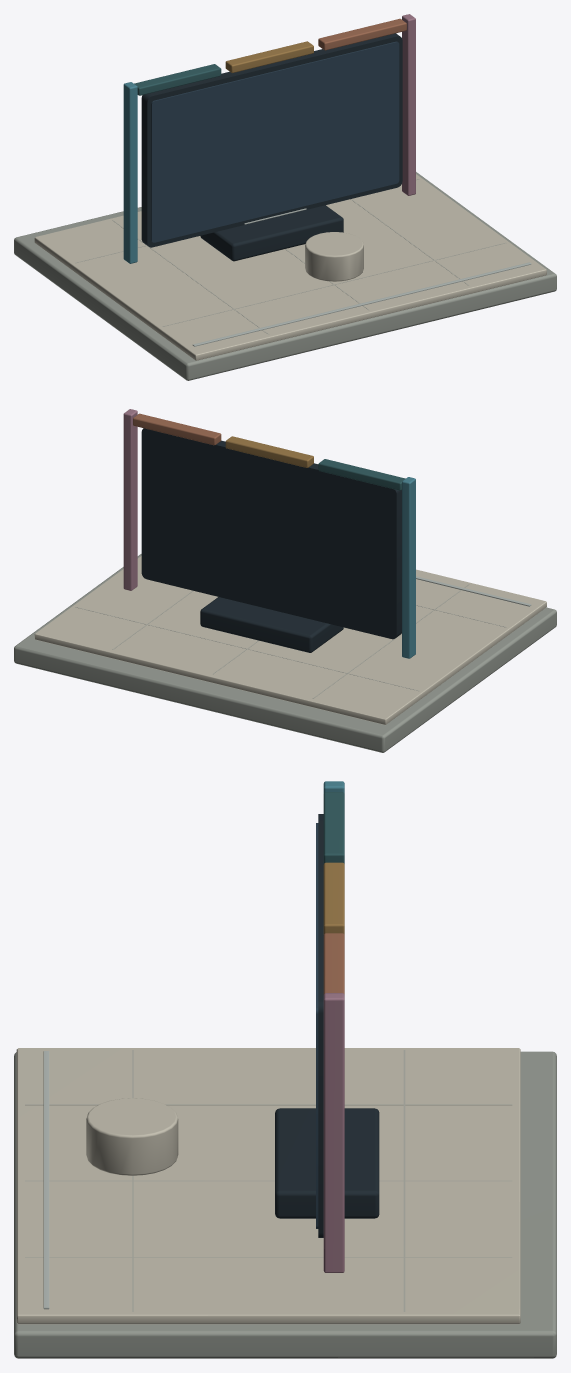
Rendered from idea-097acf9a.glb.
3 views of the same model, one above another, from view 1: azimuth 30°, elevation 25°; view 2: azimuth 150°, elevation 25°; view 3: azimuth 270°, elevation 25° (orthographic). The views are drawn at different scales.
Visible parts, largest first — view 1: Karmic Sync; view 2: Karmic Sync; view 3: Karmic Sync.
Boxes of the visible parts, box(x1,y1,x2,y2) form: Karmic Sync: box(14, 14, 556, 380); Karmic Sync: box(14, 409, 556, 752); Karmic Sync: box(14, 781, 556, 1358).
Bounding box in the file's own units: 4.8 × 2.61 × 3.9.
